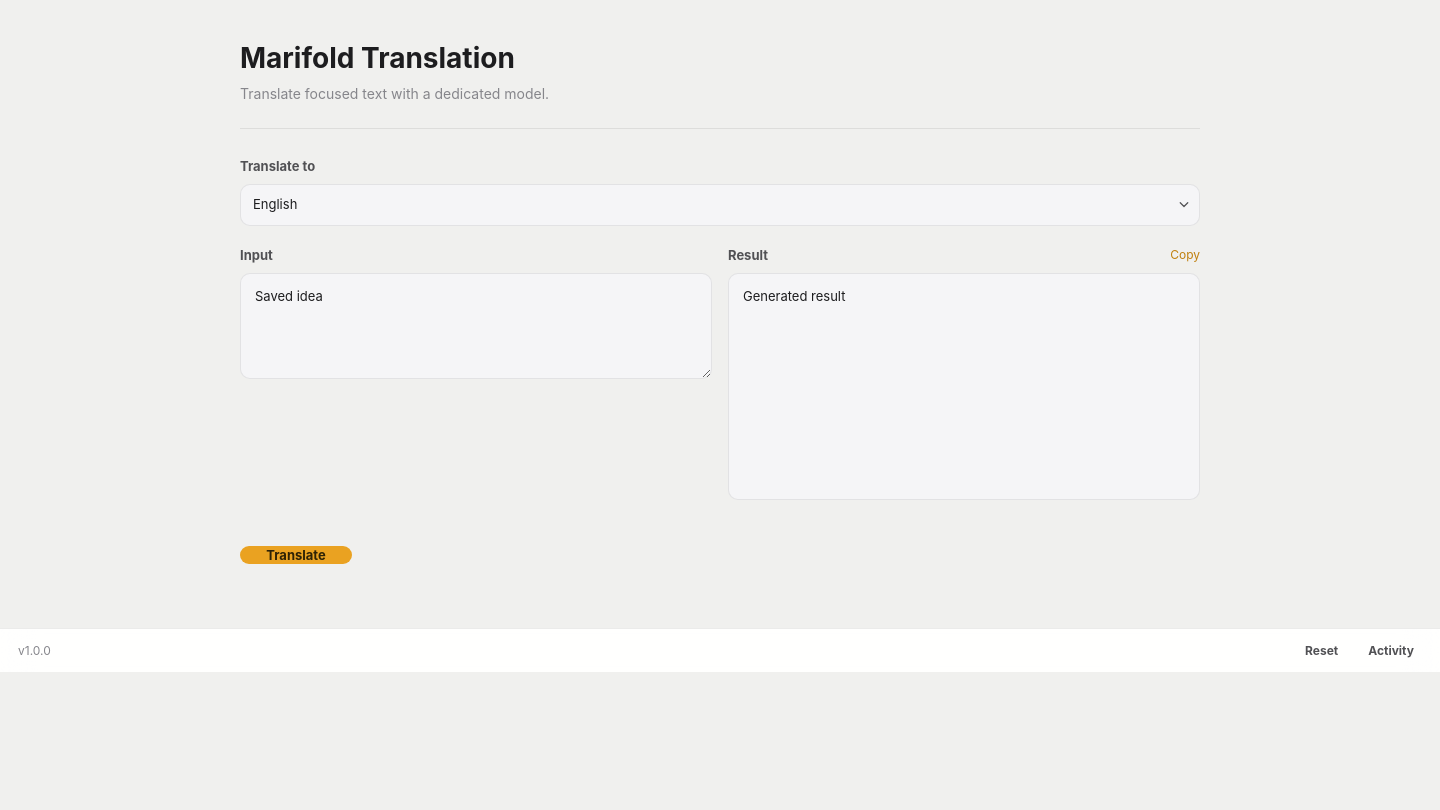
Test: AppsScreen › resets the current App before Activity without abandoning a running operation
Expected: the text box showing "Saved idea" is shown, [240,273,712,379]
Click the button "Translate": [296, 555] box [240,546,352,564]
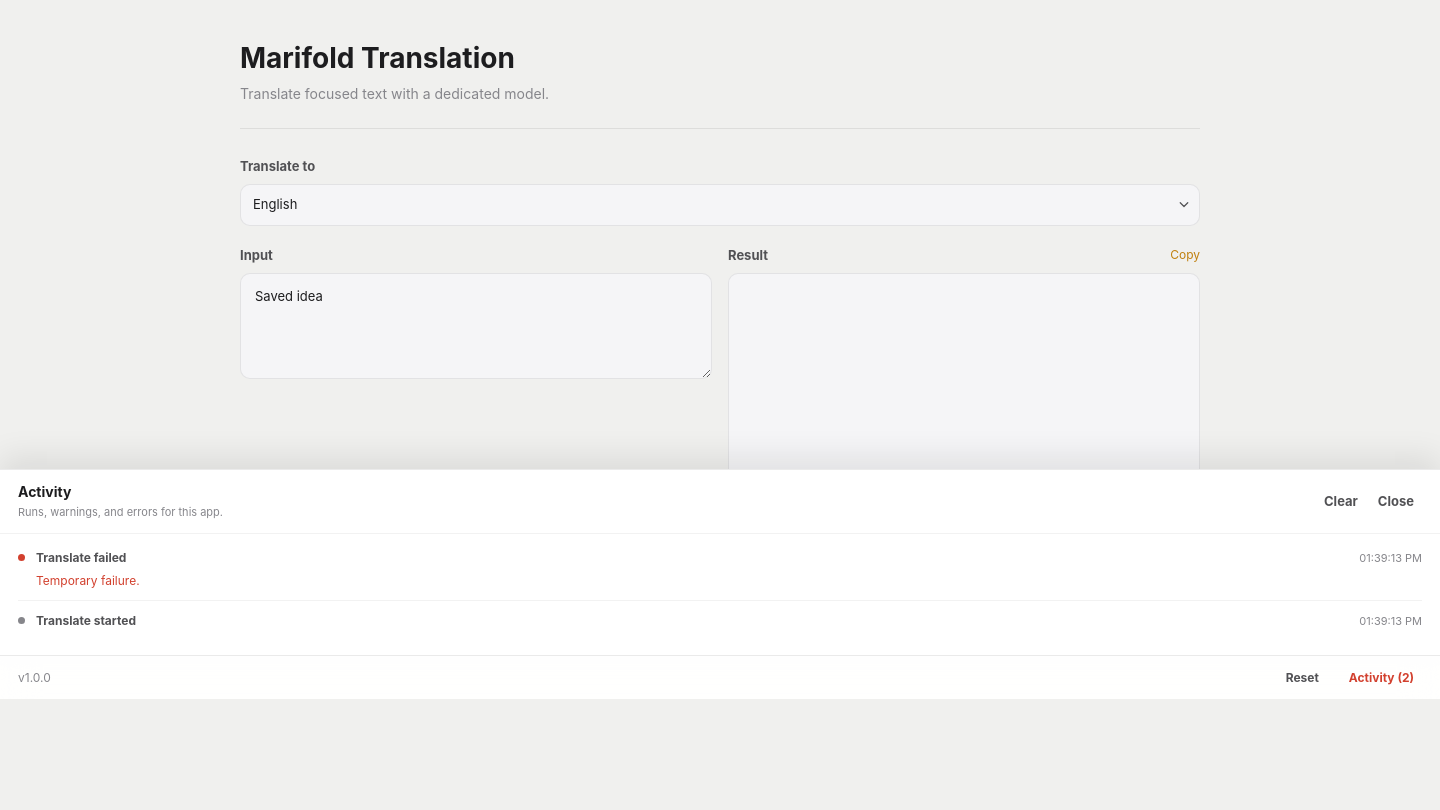
Now the button "Activity (2)" is shown, box [1341,665,1422,690]
Click the button "Reset": [1302, 678] box [1278,665,1327,690]
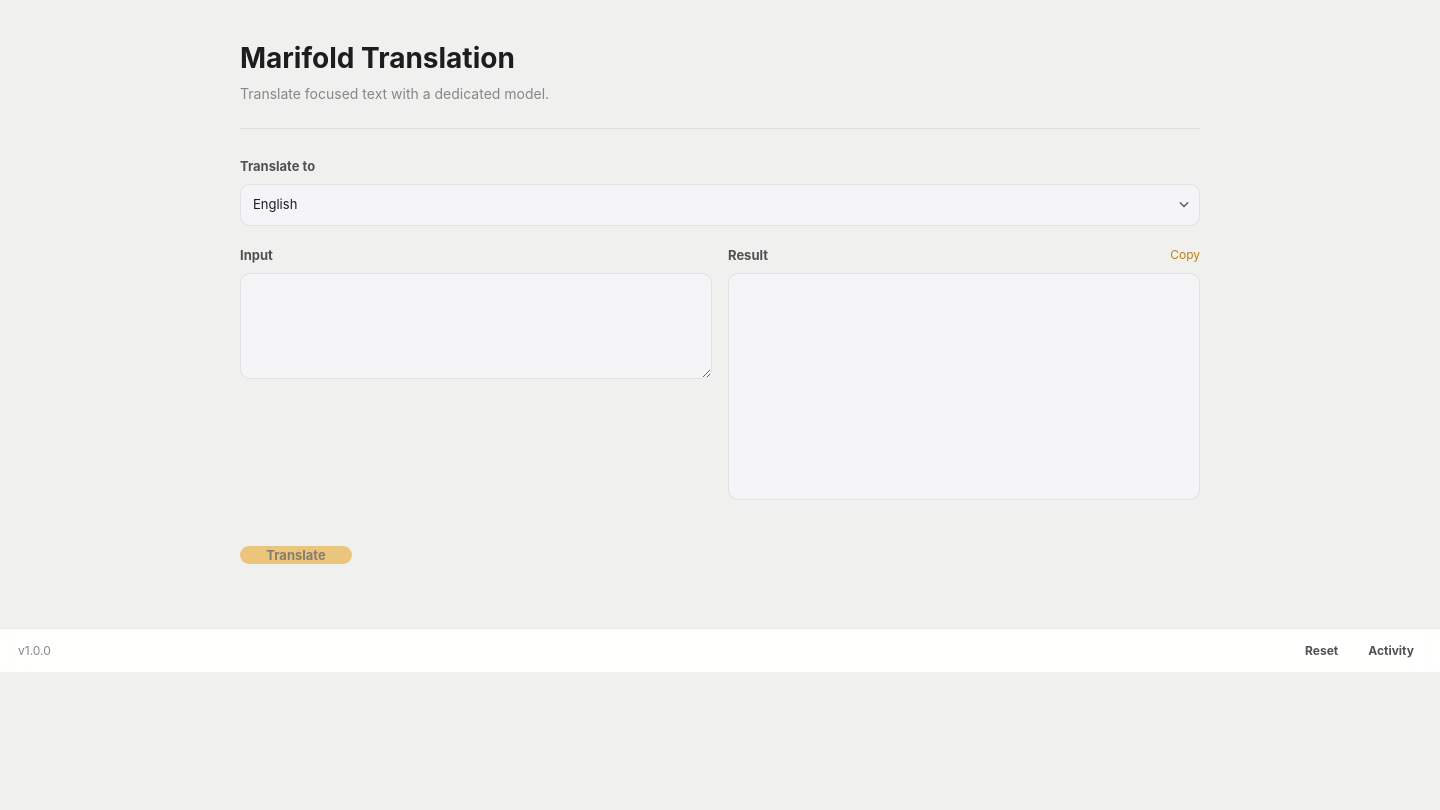
Expected: the text box labelled "Result" is empty, [728,273,1200,500]
Now the text box labelled "Input" is empty, box [240,273,712,379]
